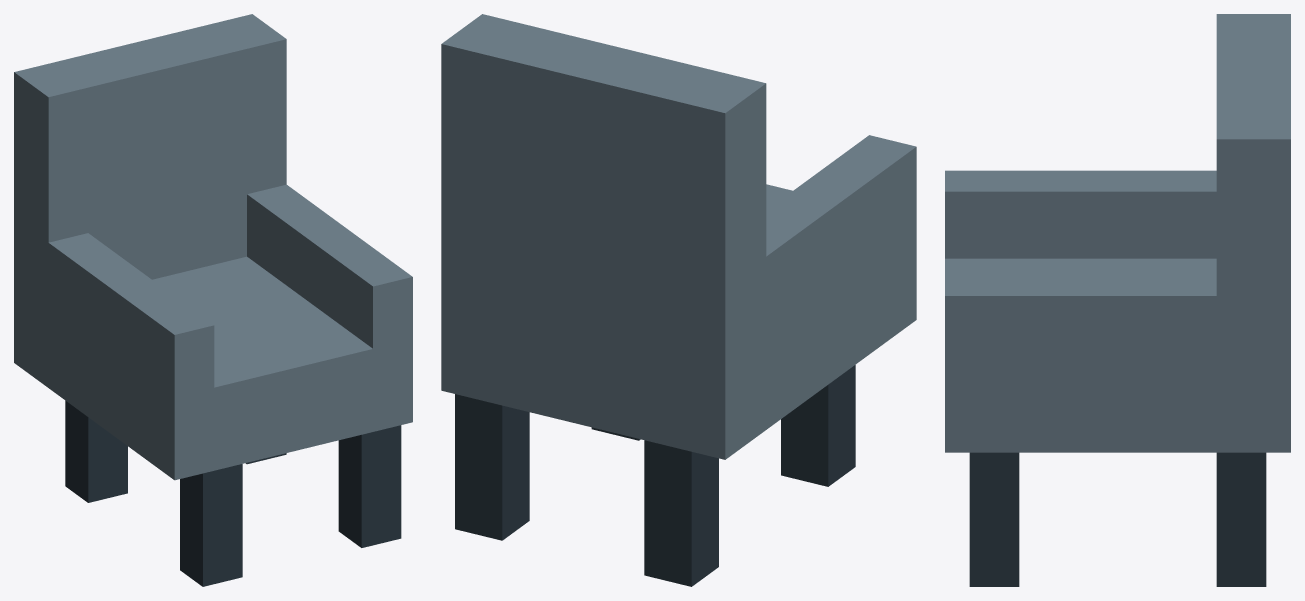
Rendered from film-02.glb.
3 views of the same model, side by side, from view 1: azimuth 30°, elevation 25°; view 2: azimuth 150°, elevation 25°; view 3: azimuth 270°, elevation 25° (orthographic). The views are drawn at different scales.
Parts seen in each view (by area): view 1: Director chair; view 2: Director chair; view 3: Director chair.
Part boxes in pixels (x1,y1,x2,y2): Director chair: (14,14,412,586); Director chair: (441,14,916,586); Director chair: (945,14,1290,586).
Bounding box in the file's own units: 0.96 × 1.6 × 1.12.
